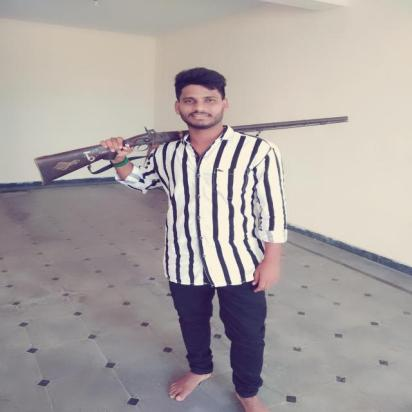Gun: (32, 114, 350, 186)
